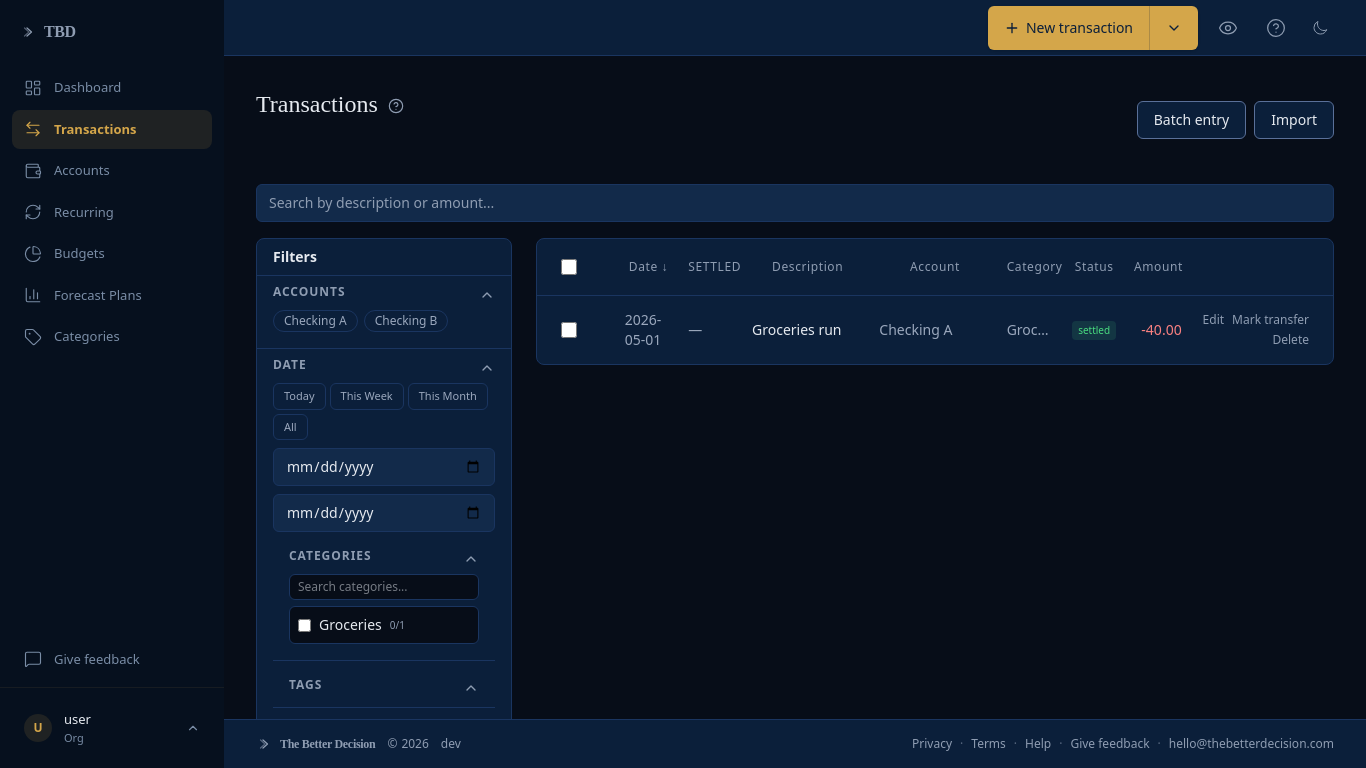
Test: TransactionsPage — transfer wiring (Task D7) › Editing a regular row keeps the plain Category label and no transfer helper text
Click the button with aria-label "Edit: Groceries run" at (1213,320), box [1203,312,1224,328]
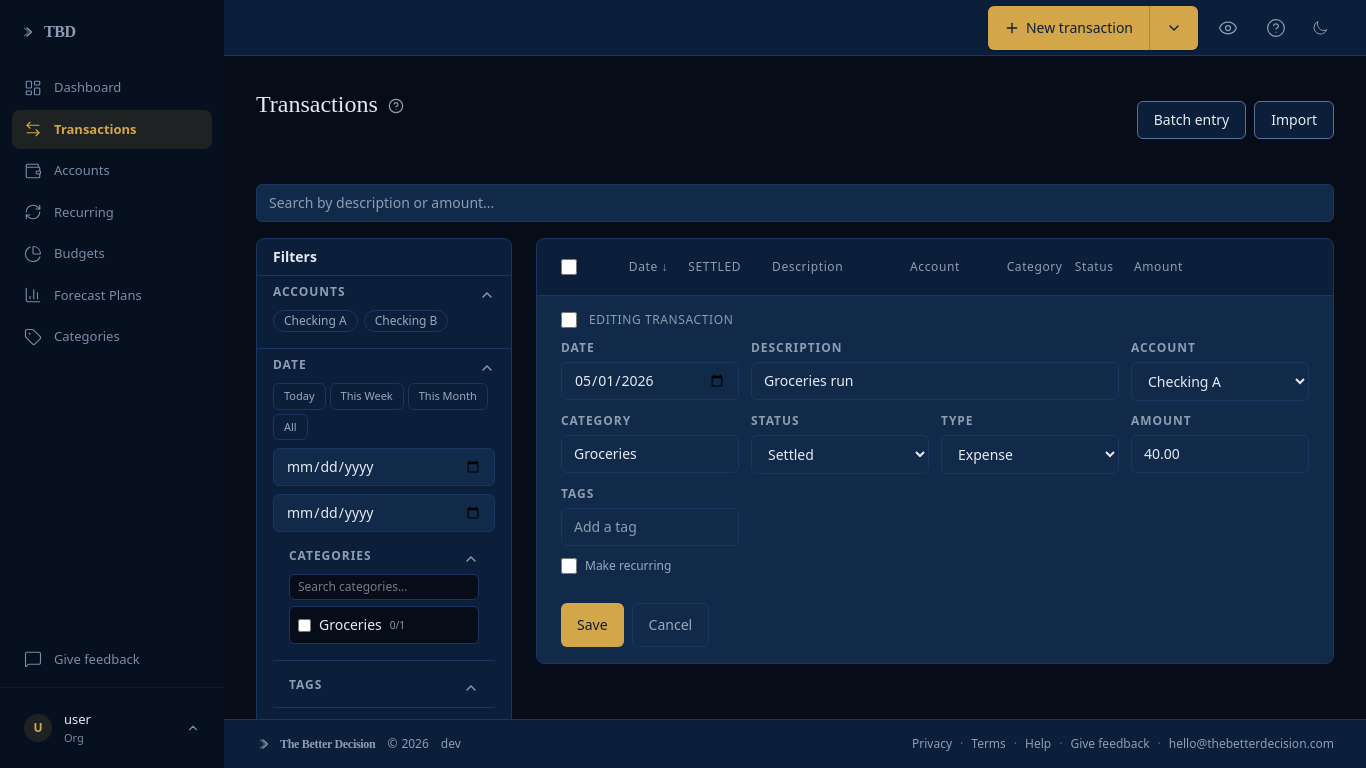
Expected: the dropdown labelled "Category" is shown, [561,435,739,473]
